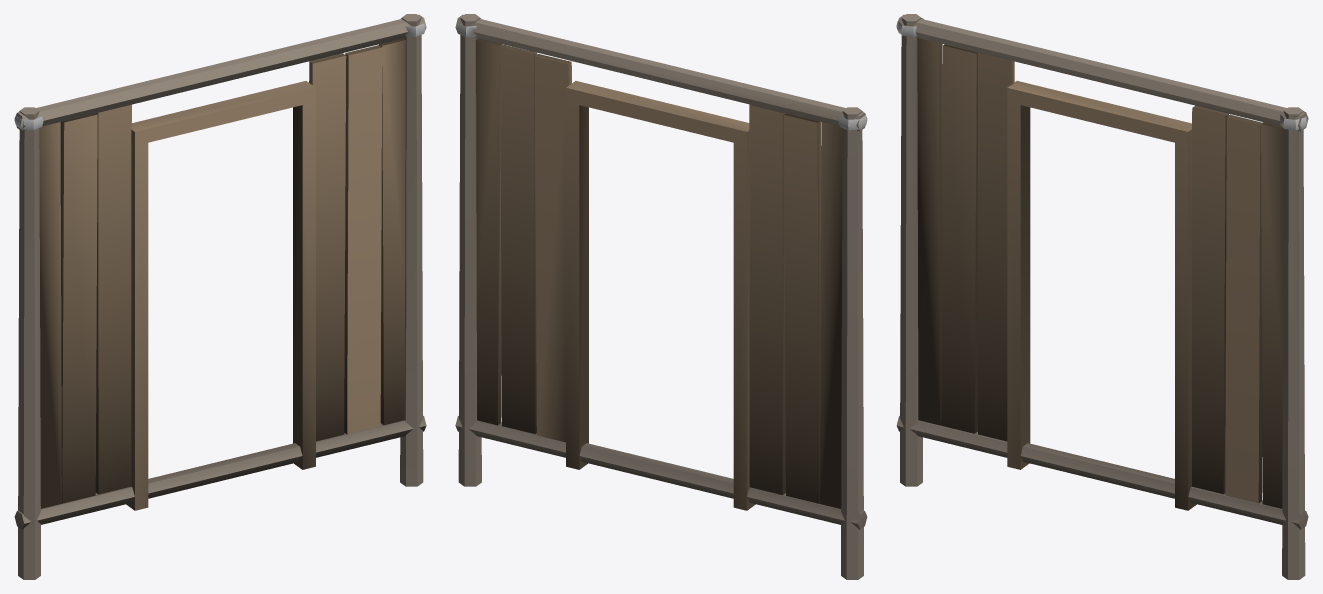
File: puerta.glb
The picture shows the model from 3 angles, left to right: view 1: azimuth 30°, elevation 25°; view 2: azimuth 150°, elevation 25°; view 3: azimuth 330°, elevation 25°; orthographic projection.
Parts seen in each view (by area): view 1: puerta; view 2: puerta; view 3: puerta.
Boxes of the visible parts, bbox=[...] form: puerta: bbox=[14, 14, 426, 579]; puerta: bbox=[455, 14, 867, 579]; puerta: bbox=[896, 14, 1308, 579].
Size of the model in its own units: 2.43 by 2.65 by 0.1521.
